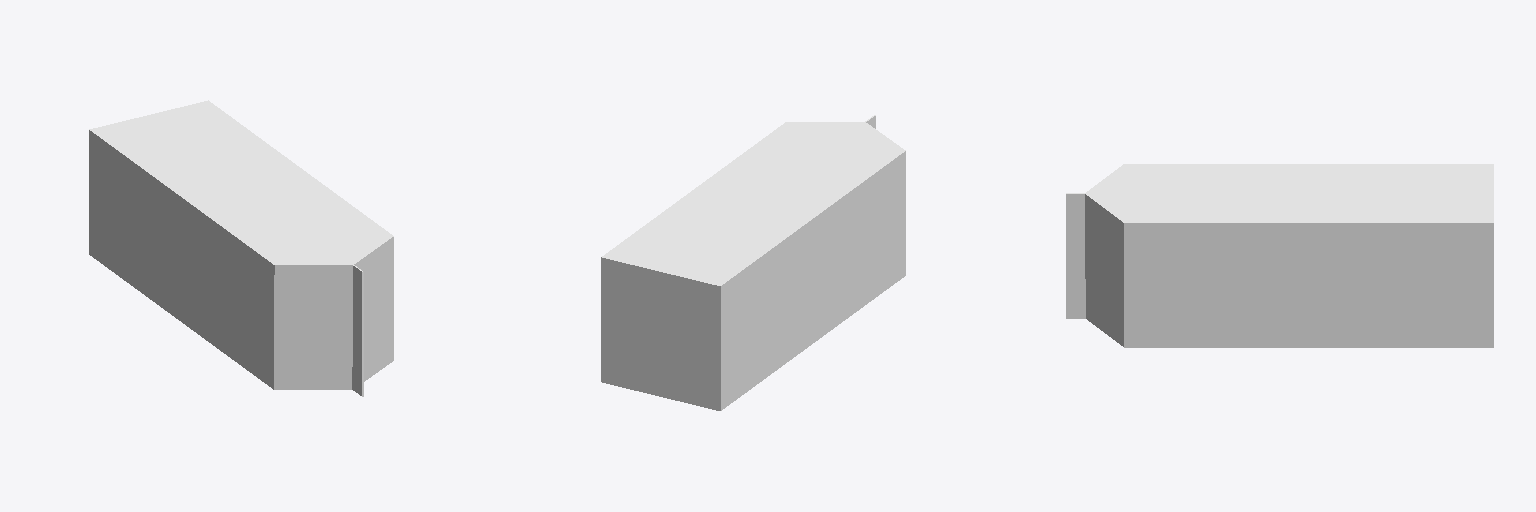
The model's file is milk_tex.obj.
3 views of the same model, side by side, from view 1: azimuth 30°, elevation 25°; view 2: azimuth 150°, elevation 25°; view 3: azimuth 270°, elevation 25° (orthographic).
Visible parts, largest first — view 1: milk_tex_Cube.000; view 2: milk_tex_Cube.000; view 3: milk_tex_Cube.000.
Part boxes in pixels (bbox=[...]): milk_tex_Cube.000: bbox=[89, 100, 393, 396]; milk_tex_Cube.000: bbox=[601, 115, 905, 410]; milk_tex_Cube.000: bbox=[1066, 164, 1493, 347].
Bounding box in the file's own units: 0.071 × 0.071 × 0.2205.